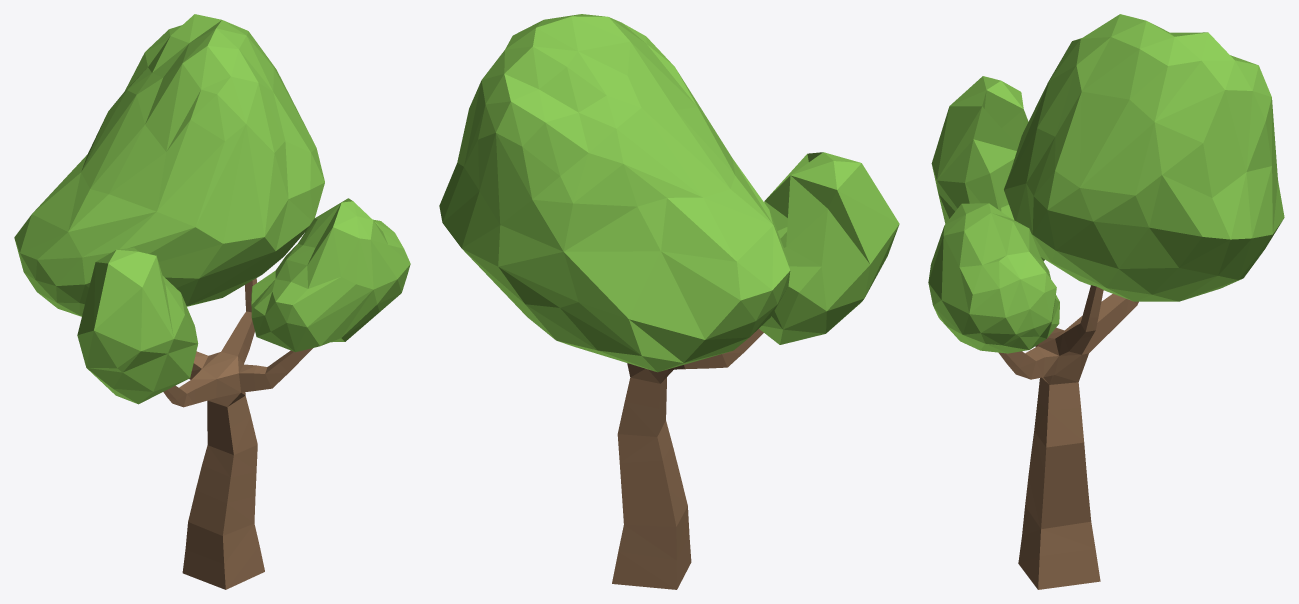
File: tree04.fbx
3 views of the same model, side by side, from view 1: azimuth 30°, elevation 25°; view 2: azimuth 150°, elevation 25°; view 3: azimuth 270°, elevation 25° (orthographic). The views are drawn at different scales.
Visible parts, largest first — view 1: tree04_LOD0; view 2: tree04_LOD0; view 3: tree04_LOD0.
Boxes of the visible parts, box(x1,y1,x2,y2) form: tree04_LOD0: box(14, 14, 410, 589); tree04_LOD0: box(439, 14, 899, 589); tree04_LOD0: box(928, 14, 1284, 589).
Size of what is drawn, in the model's own units: 283 by 421 by 239.
